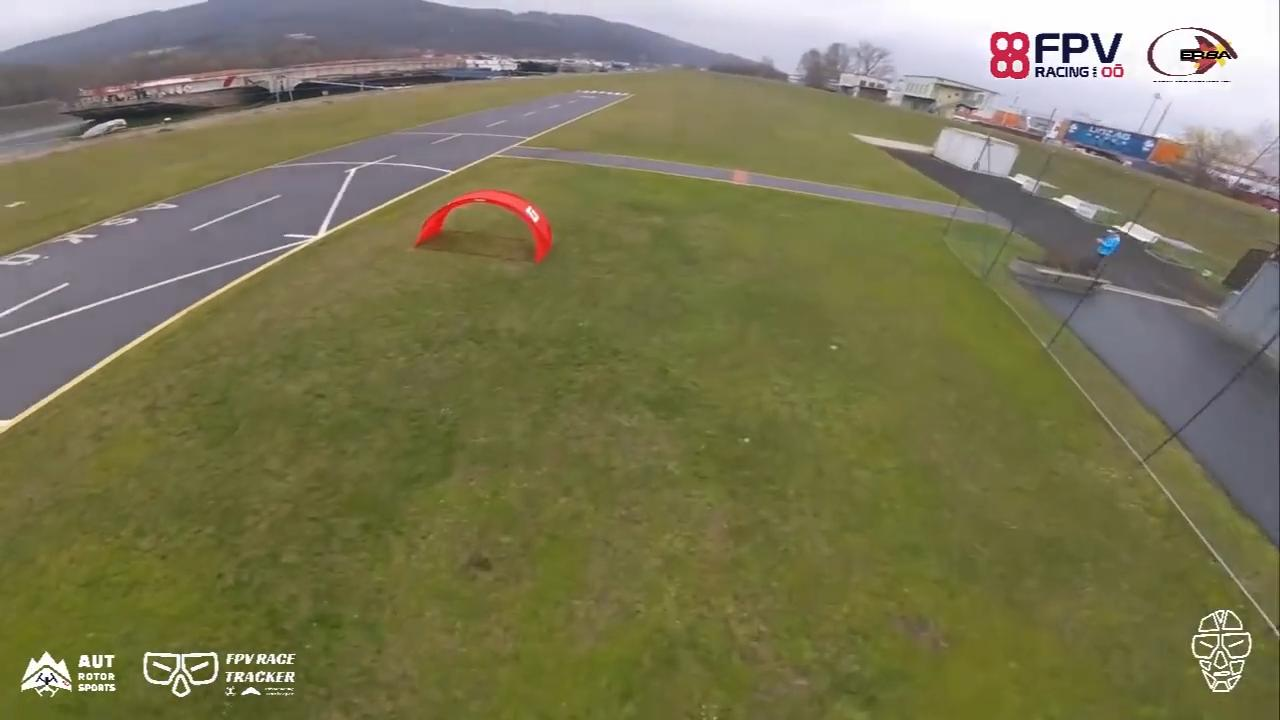gate: (412, 190, 557, 270)
